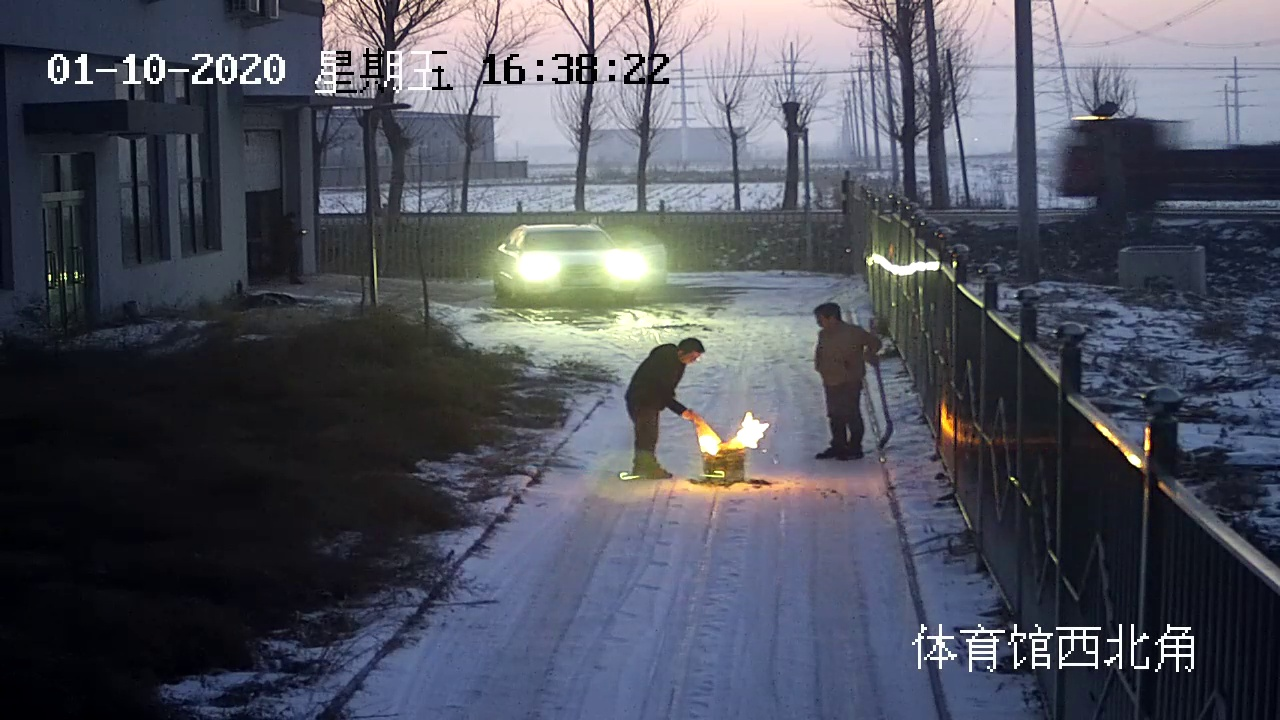fire: (694, 410, 775, 457)
